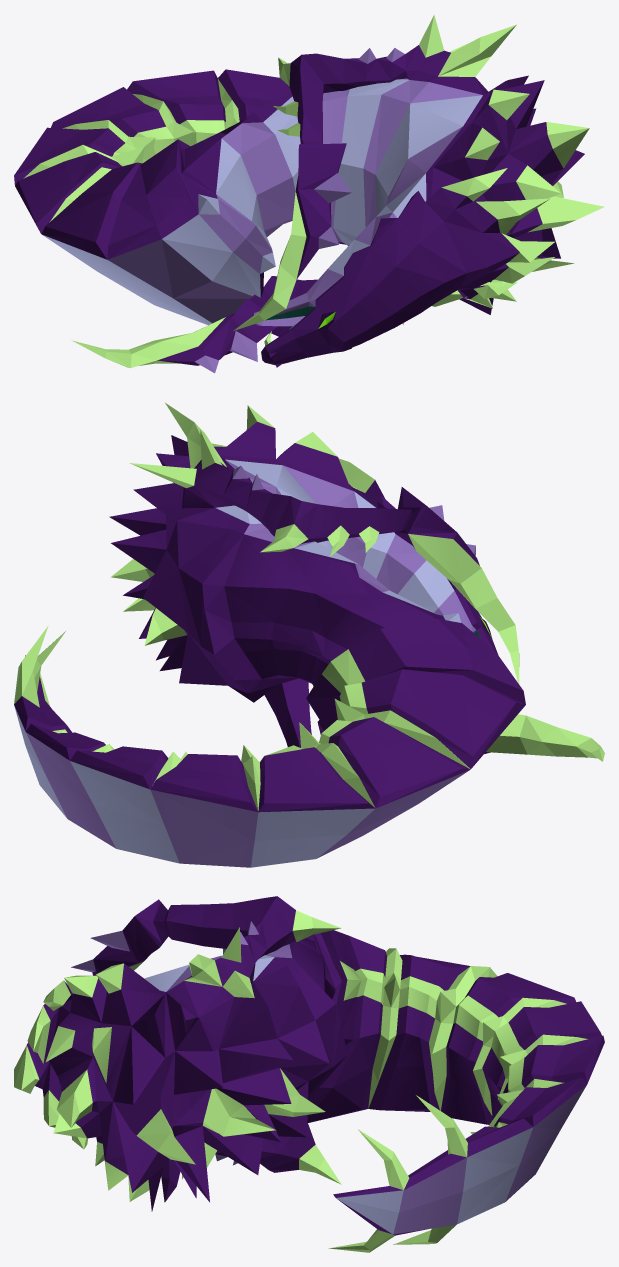
3 renders of one model, top to bottom at view 1: azimuth 30°, elevation 25°; view 2: azimuth 150°, elevation 25°; view 3: azimuth 270°, elevation 25°, orthographic. The views are drawn at different scales.
Parts seen in each view (by area): view 1: Alien_Serpent; view 2: Alien_Serpent; view 3: Alien_Serpent.
Part boxes in pixels (box(x1,y1,x2,y2)): Alien_Serpent: box(14, 15, 604, 373); Alien_Serpent: box(14, 403, 604, 867); Alien_Serpent: box(14, 896, 604, 1252).
Bounding box in the file's own units: 244 × 146 × 249.
1 material, 1 textured.
